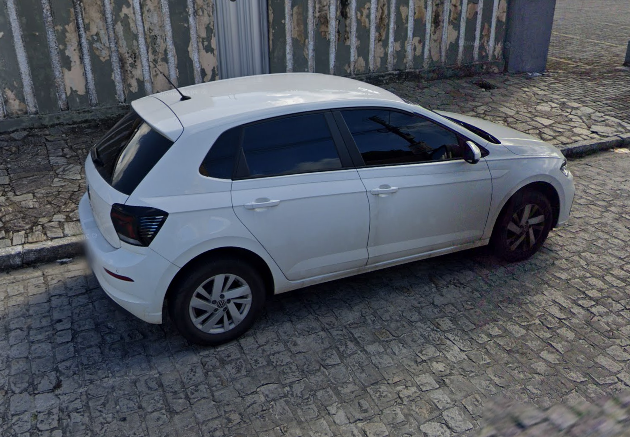car: (75, 58, 578, 348)
